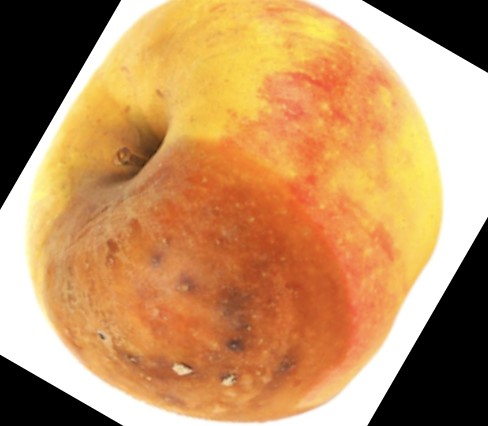rotten_apple: (29, 2, 445, 421)
